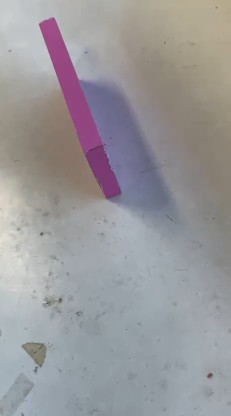pink: (29, 17, 125, 190)
